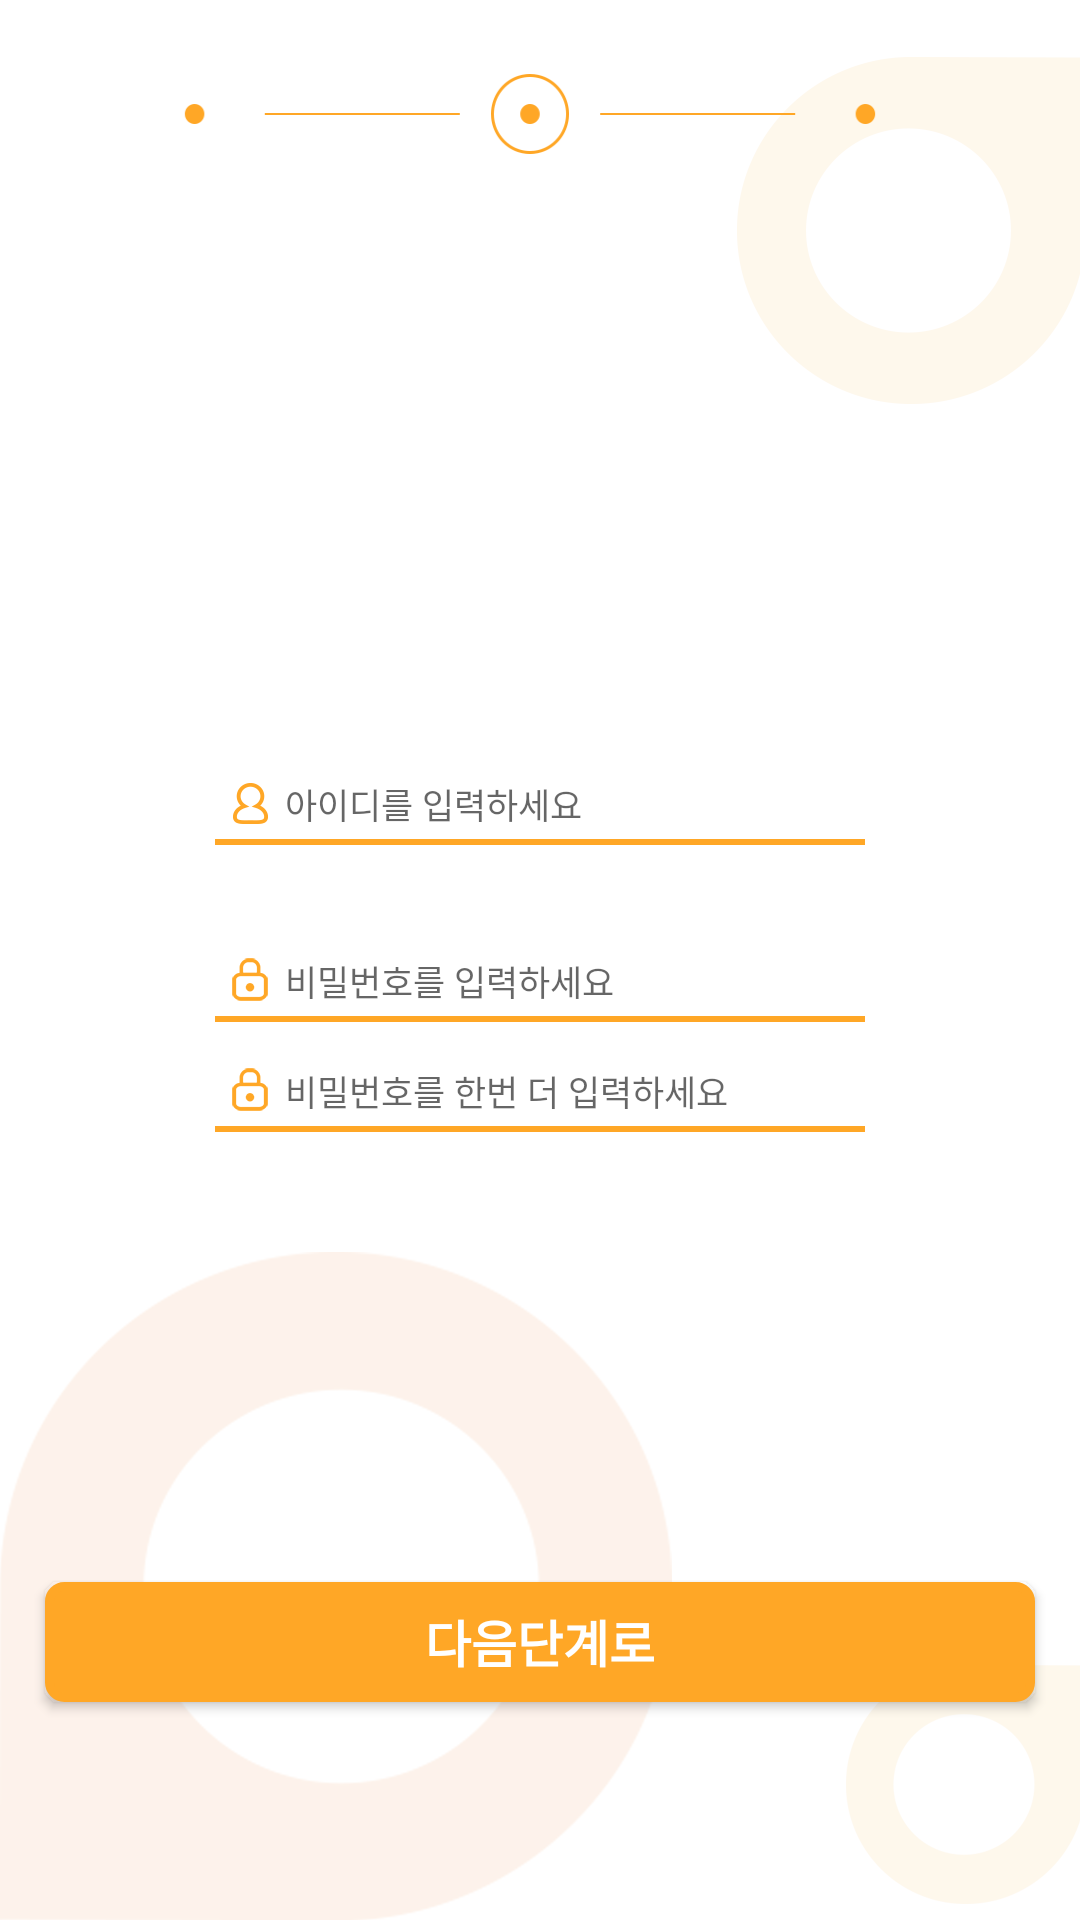

Named icons in this screenshot (1080 × 1920) and their centers, (x=x, y=y):
login lock: (x=250, y=979), (x=250, y=1089)
login name: (x=250, y=803)
